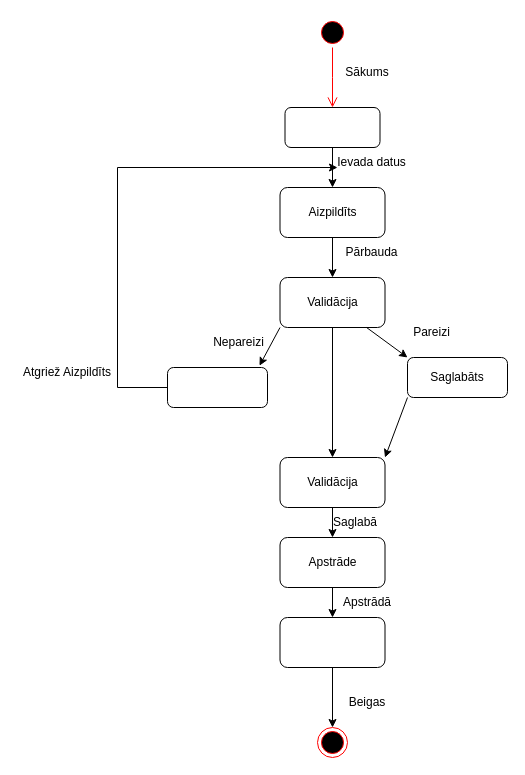
This 525x775 diagram has some shape labels left out. Each missing label, with the box of its shape:
Jauns: (284, 106, 380, 148)
Nederīgs: (166, 366, 268, 408)
Pabeigts: (279, 616, 385, 668)
